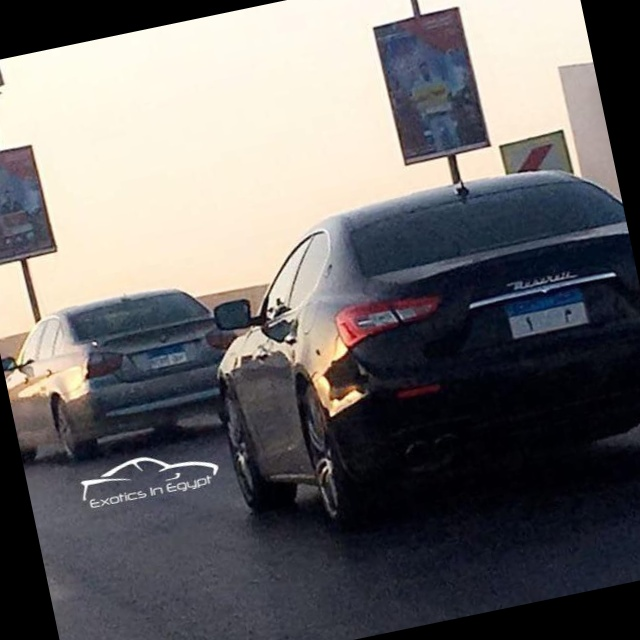License Plate: (502, 286, 593, 343)
